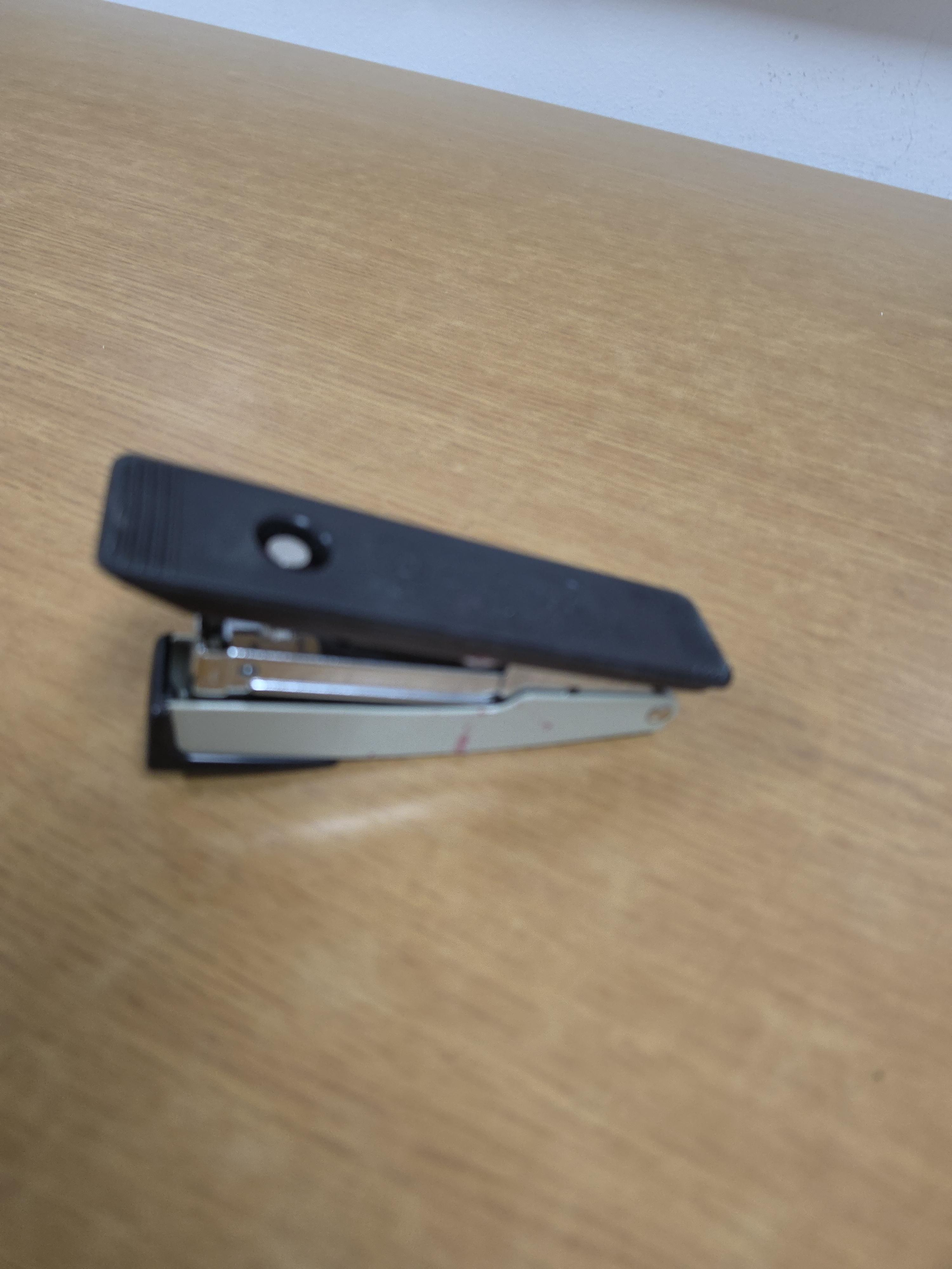stapler: (96, 453, 731, 774)
